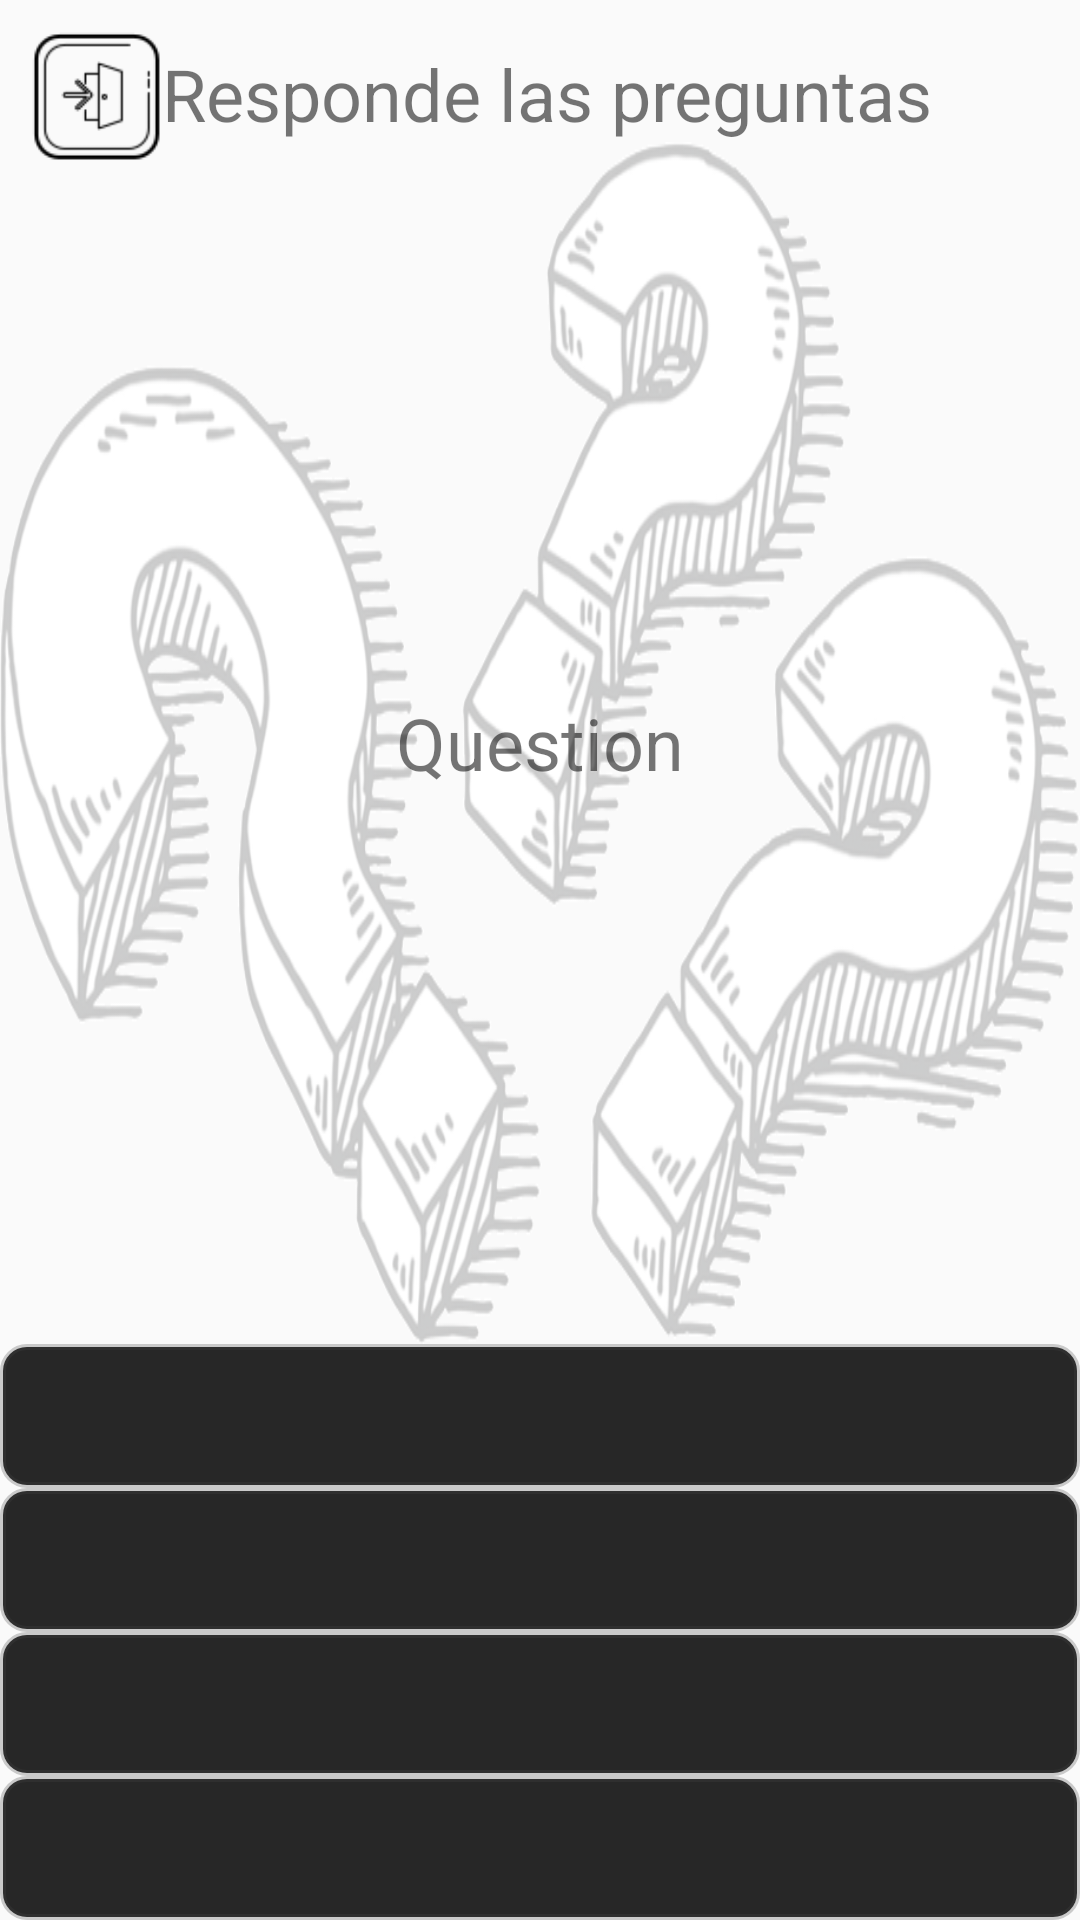

Where icons sit on this 1080 x 1920 app screen, as bbox(x1, y1, x2, y2):
exitimg: bbox(34, 34, 160, 160)
